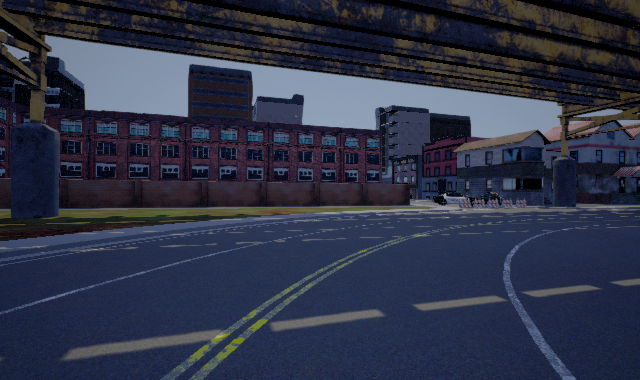vehicle: (432, 192, 475, 207)
